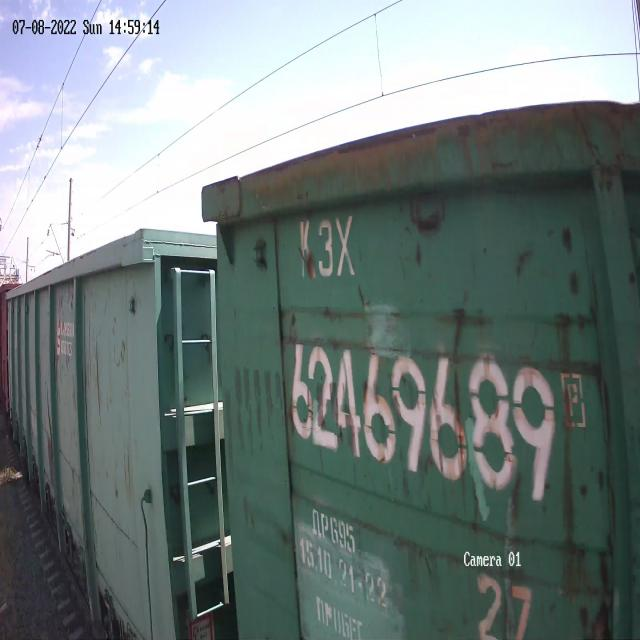gondola: (193, 87, 640, 640), (3, 215, 225, 640)
